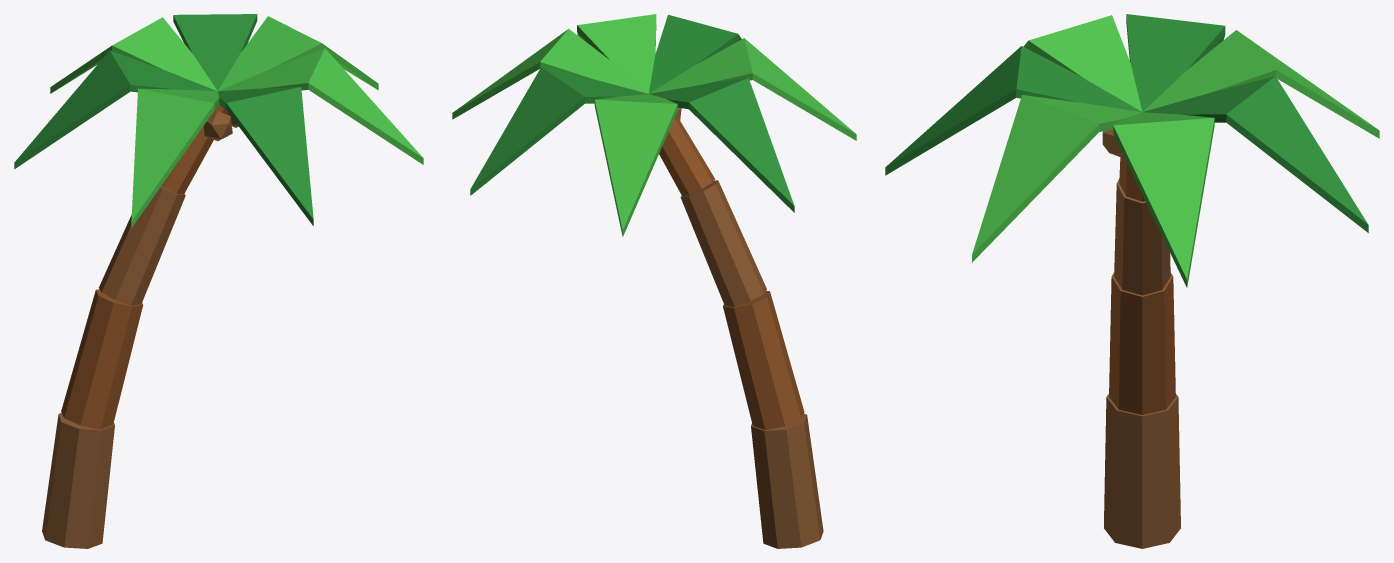
The model's file is Tree_Palm.fbx.
3 renders of one model, left to right at view 1: azimuth 30°, elevation 25°; view 2: azimuth 150°, elevation 25°; view 3: azimuth 270°, elevation 25°, orthographic. The views are drawn at different scales.
Parts seen in each view (by area): view 1: Tree_Palm; view 2: Tree_Palm; view 3: Tree_Palm.
Part boxes in pixels (x1=…): Tree_Palm: x1=14, y1=14, x2=423, y2=548; Tree_Palm: x1=452, y1=14, x2=856, y2=548; Tree_Palm: x1=885, y1=14, x2=1379, y2=548.
Size of the model in its own units: 9.74 by 11.78 by 9.6.
1 material, 1 textured.
